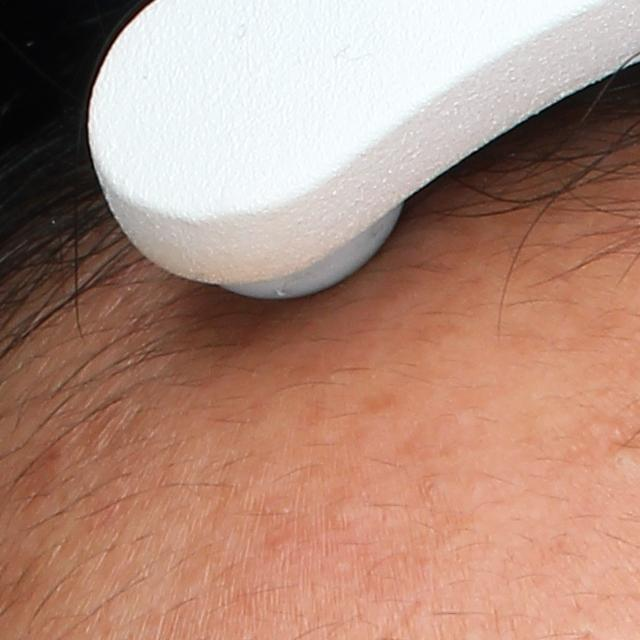comedo: (324, 499, 359, 528), (608, 448, 637, 470)
